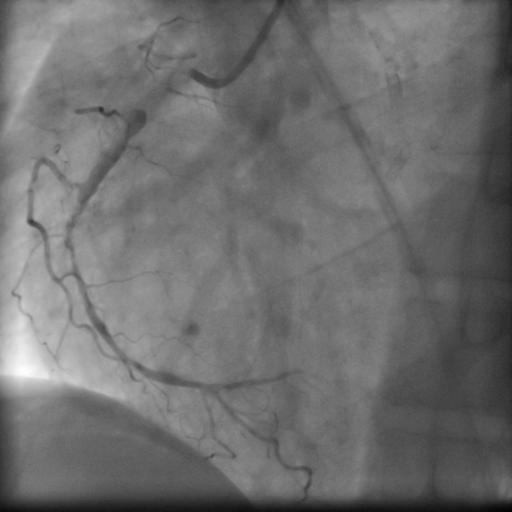Stenosis: (141, 83, 166, 112)
